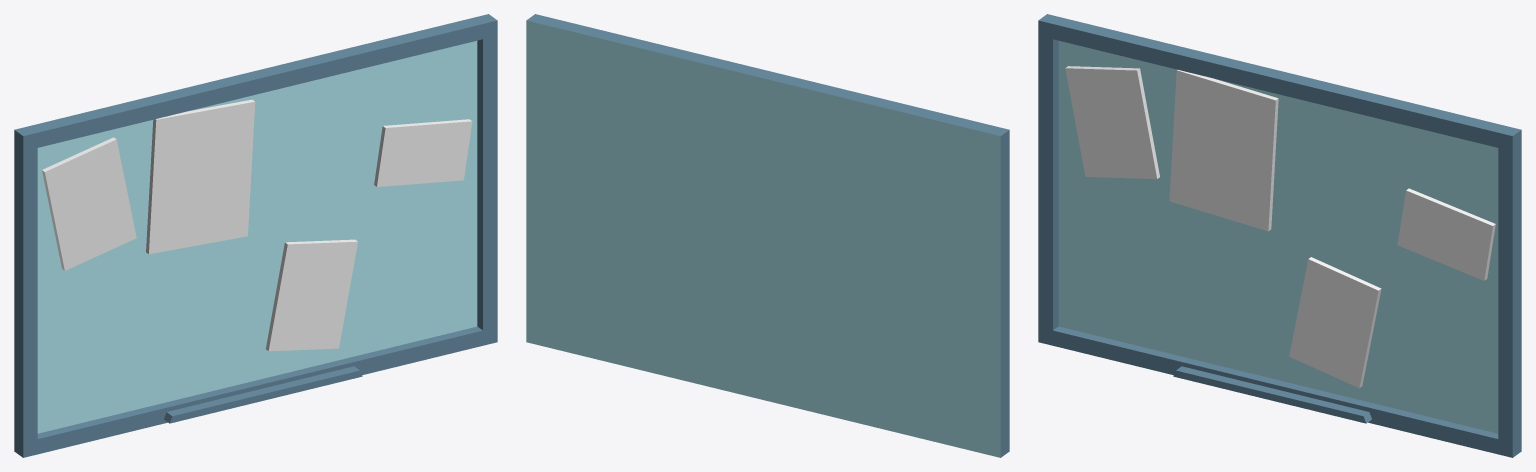
Rendered from 5 stand.fbx.
The picture shows the model from 3 angles, left to right: view 1: azimuth 30°, elevation 25°; view 2: azimuth 150°, elevation 25°; view 3: azimuth 330°, elevation 25°; orthographic projection.
Visible parts, largest first — view 1: 5 stand; view 2: 5 stand; view 3: 5 stand.
Part boxes in pixels (<box>): 5 stand: <box>14,14,497,457</box>; 5 stand: <box>526,14,1009,457</box>; 5 stand: <box>1038,14,1521,457</box>.
Bounding box in the file's own units: 56.97 × 36.93 × 3.05.
